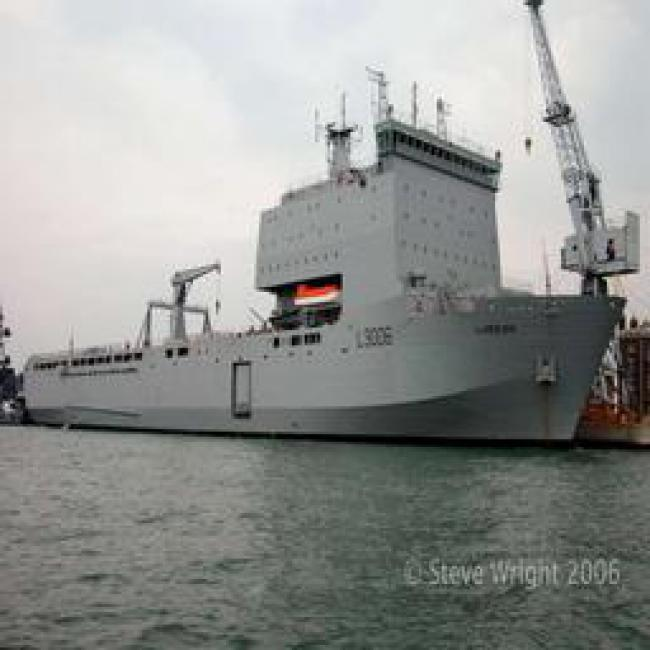Ship: (23, 297, 605, 457)
